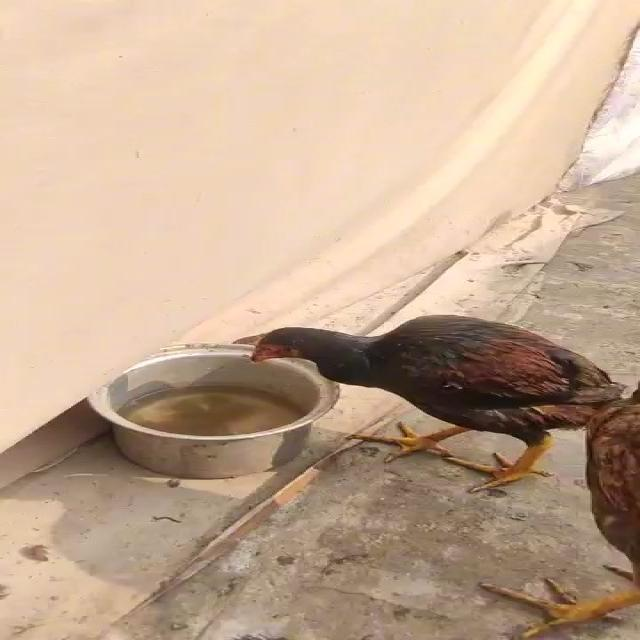drinking: (217, 302, 640, 482)
